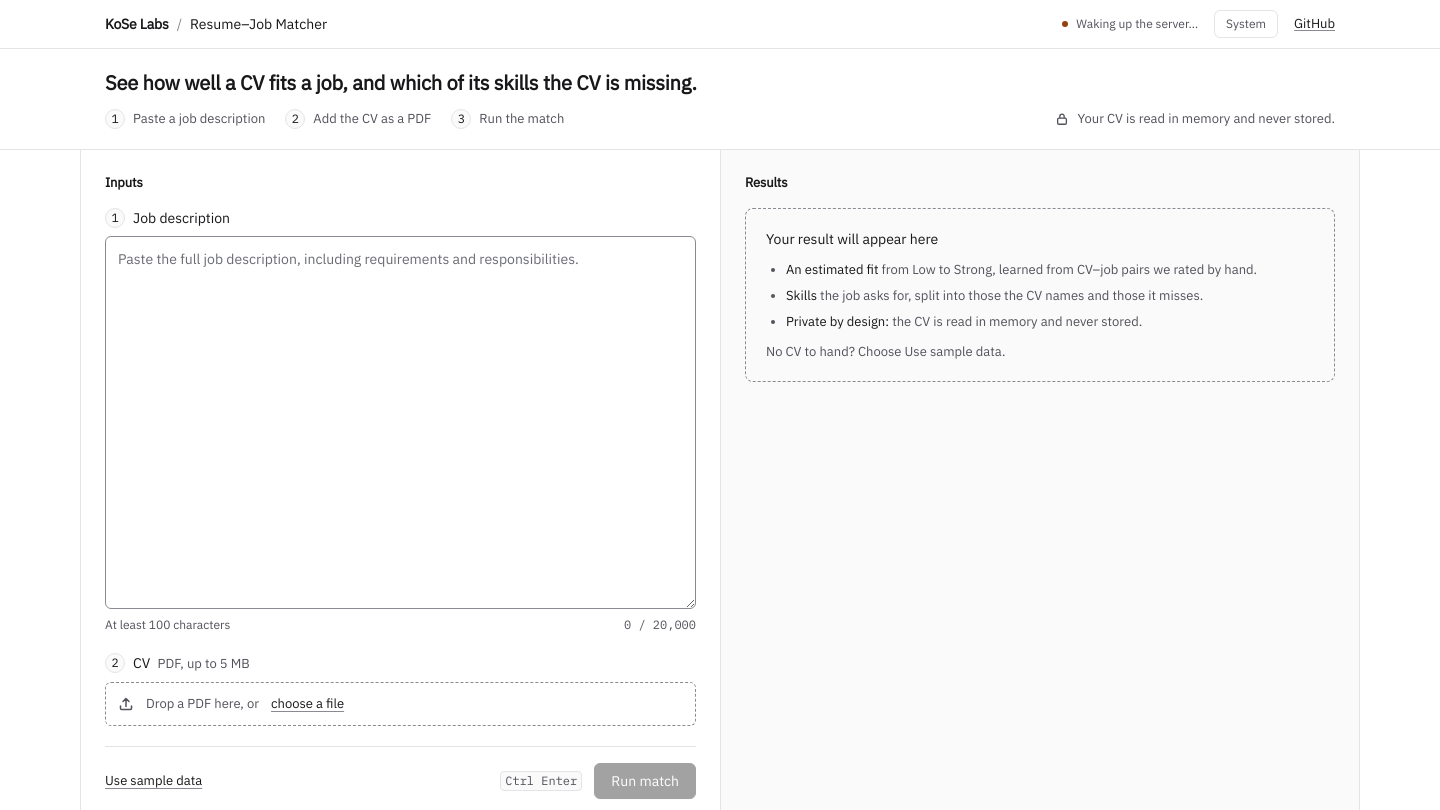
inputs › fills in the sample job description and CV
Click the button "Use sample data".
click(154, 781)  # box left=105, top=772, right=202, bottom=790
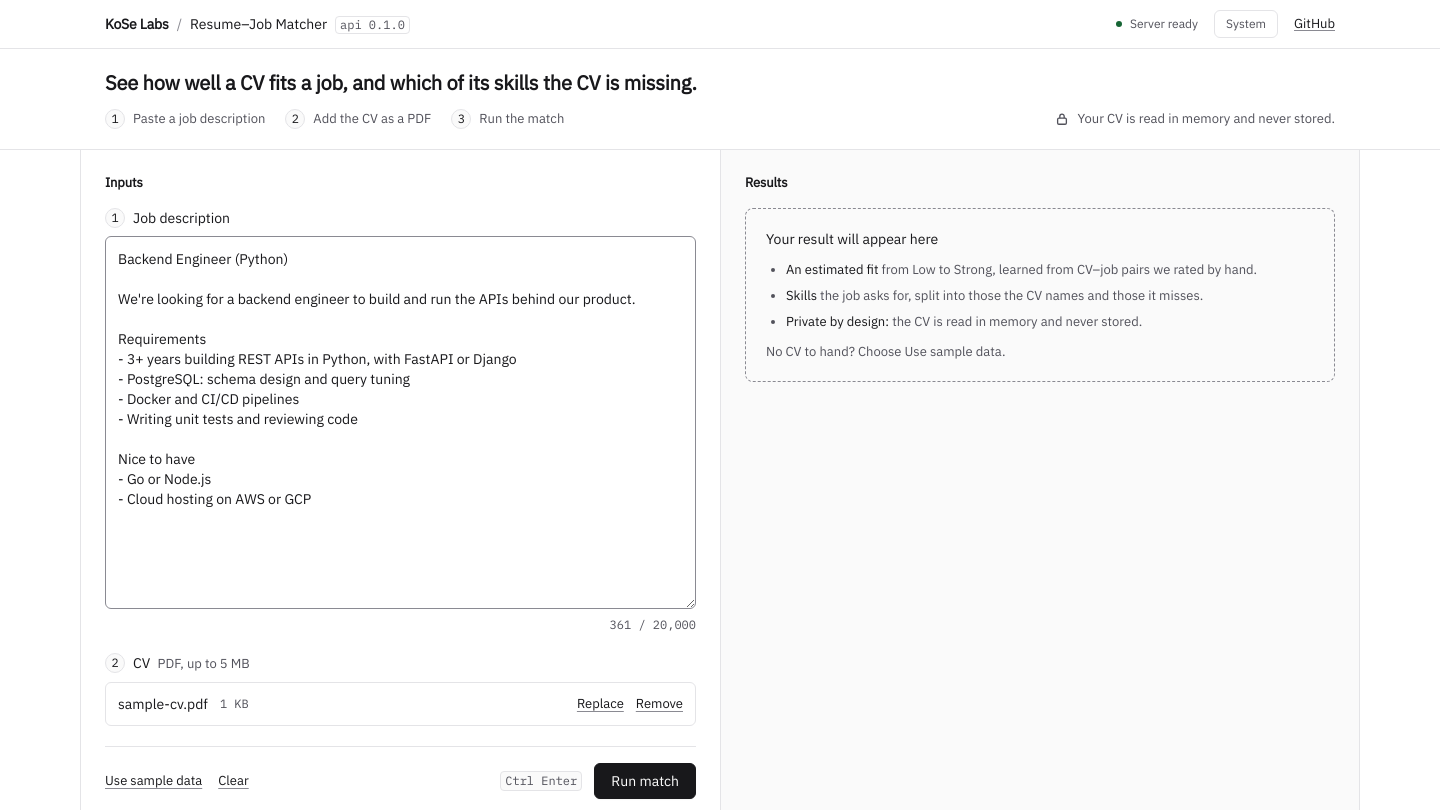
Result: the text "sample-cv.pdf" is shown at left=118, top=694, right=208, bottom=714
Result: the button "Run match" is enabled at left=594, top=763, right=696, bottom=799
